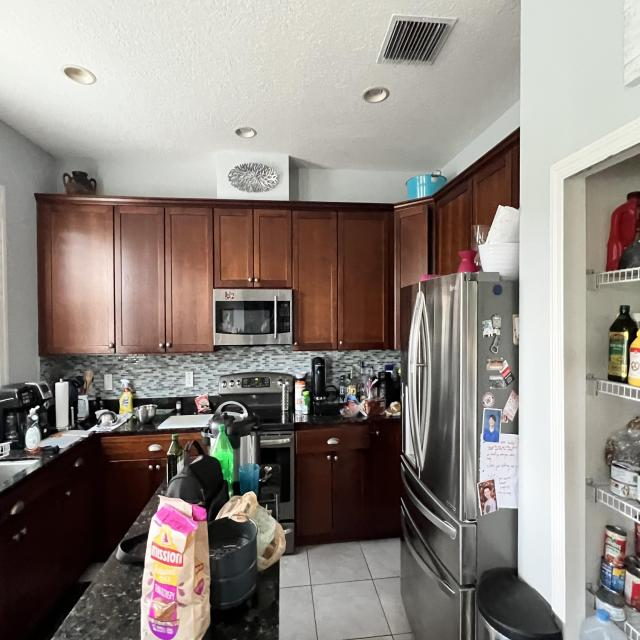Appliance_Fridge: (400, 273, 519, 640)
Appliance_Microwave: (212, 287, 293, 350)
Appliance_Oven: (218, 372, 295, 555)
Cabinet_Flat: (3, 432, 177, 520), (295, 425, 397, 454)
Cabinet_Shaker: (36, 132, 520, 357), (0, 458, 168, 634), (296, 449, 401, 546)
Countertop_Granite: (50, 506, 153, 640), (204, 564, 280, 640)
Countertop_Marble: (0, 457, 42, 494)
